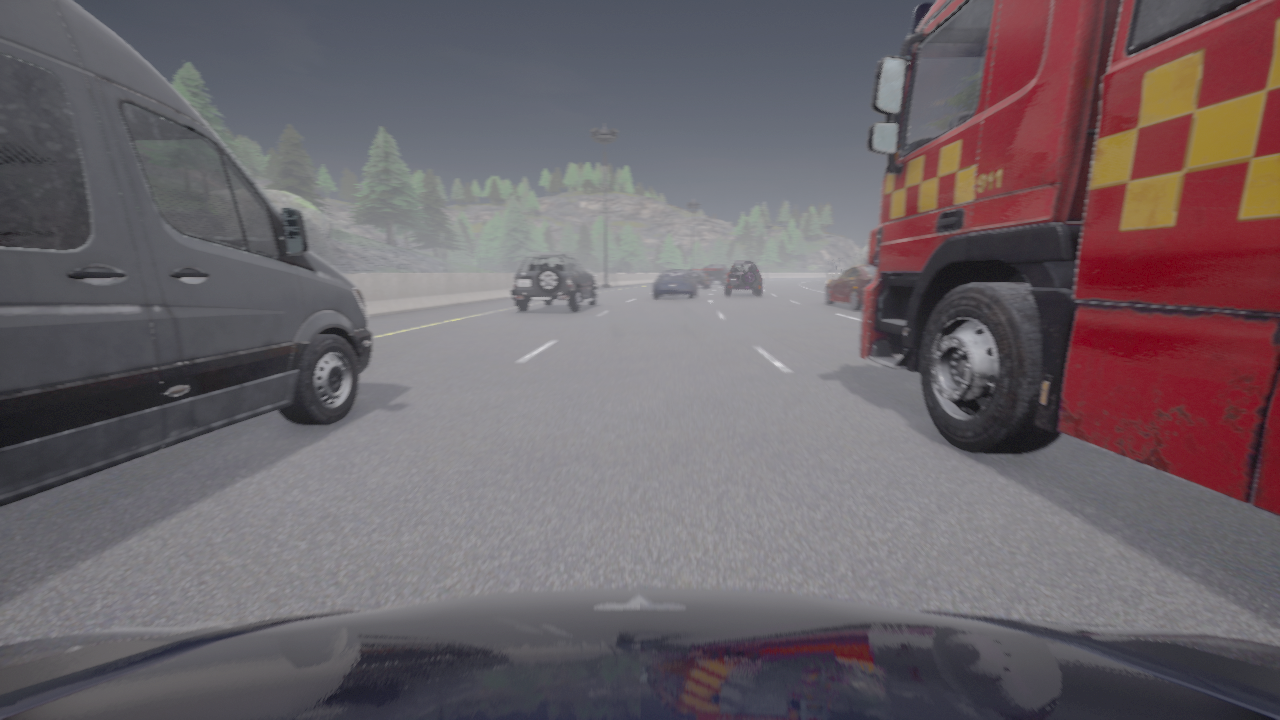cyclist: (859, 0, 1279, 516), (0, 588, 1279, 719), (510, 252, 598, 311), (826, 264, 875, 310), (725, 261, 762, 295), (653, 270, 696, 298), (702, 265, 727, 283), (688, 269, 711, 288)
